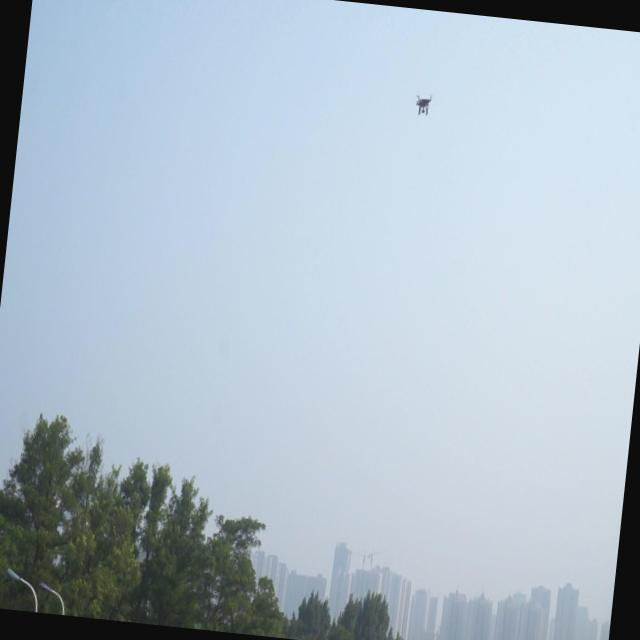drone: (412, 87, 435, 121)
